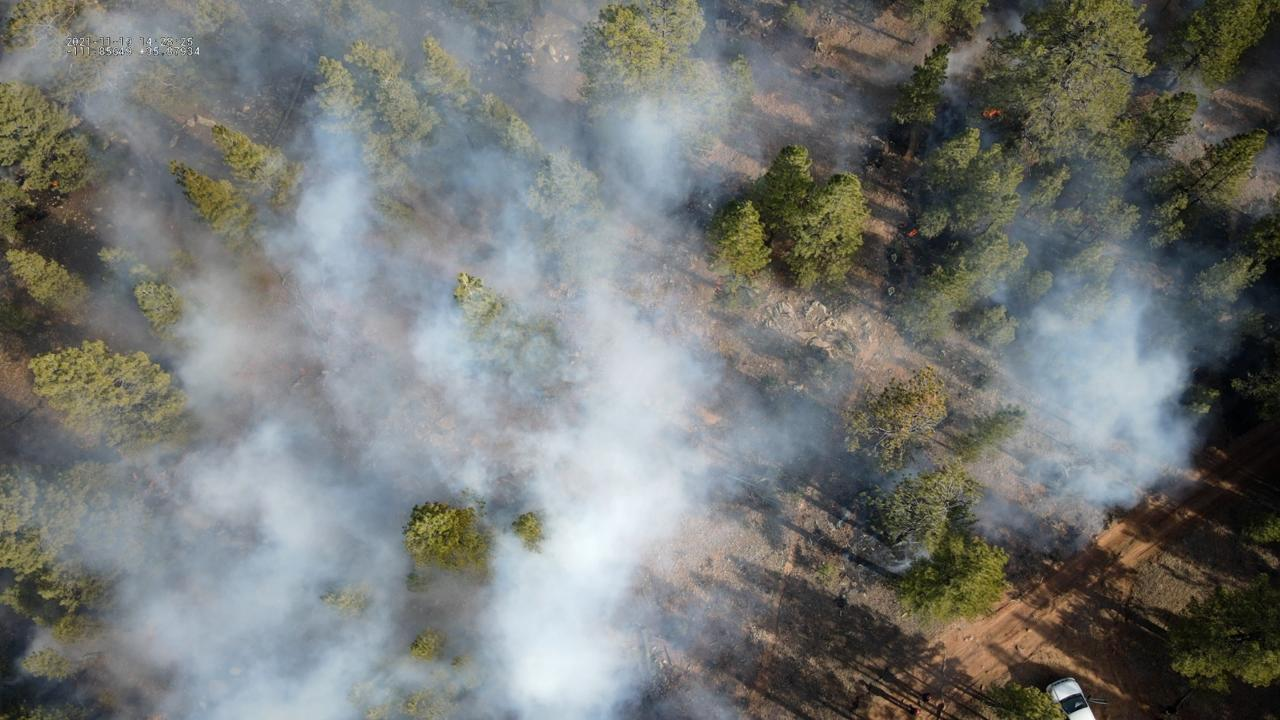fire: (980, 106, 1003, 120), (904, 227, 919, 238), (47, 178, 59, 187)
smoke: (0, 0, 1280, 720)
